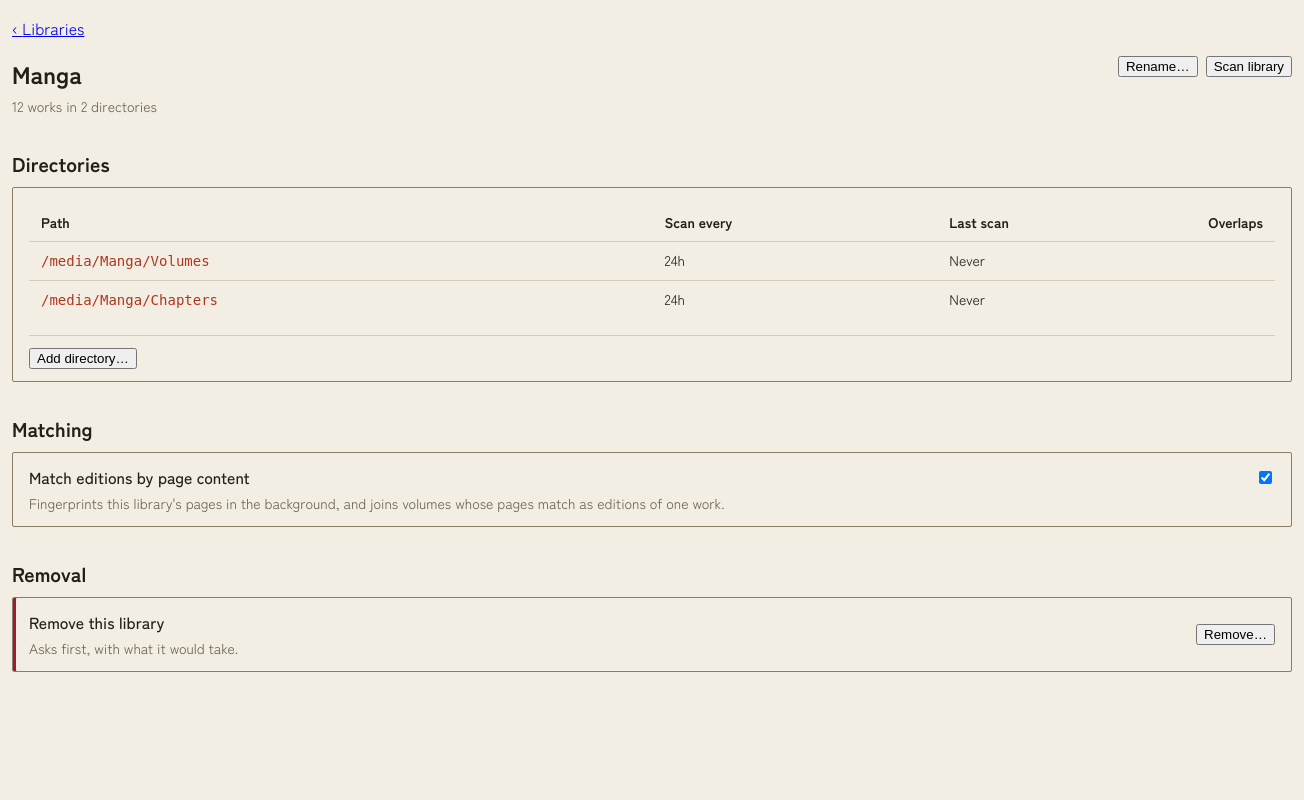
it: LibraryPage, what it says went wrong › draws a failed scan start as the server’s sentence
Click the button "Scan library": (1249, 66) x1=1206 y1=56 x2=1292 y2=77
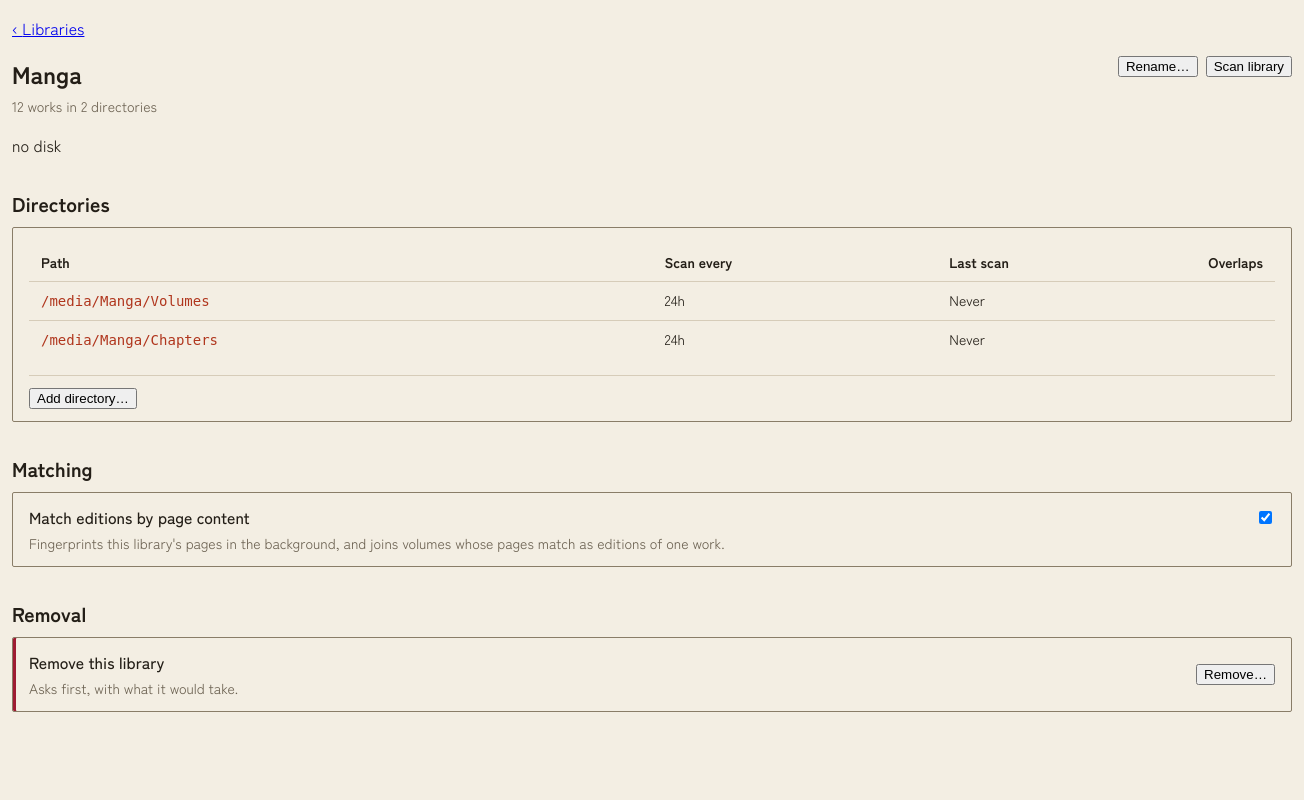
Now the message "no disk" is shown, box x1=12 y1=133 x2=62 y2=157
